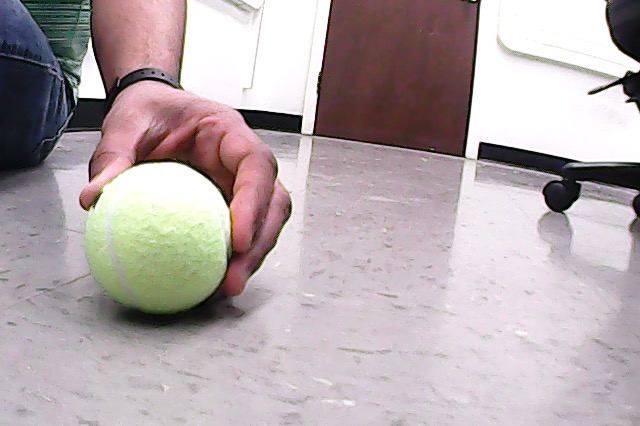ball: (85, 162, 231, 313)
